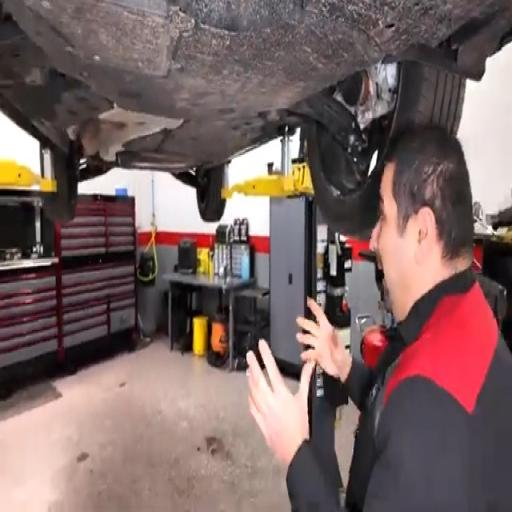tire: (305, 121, 385, 238), (196, 164, 226, 221)
wheel: (305, 62, 465, 238), (43, 151, 79, 223)
